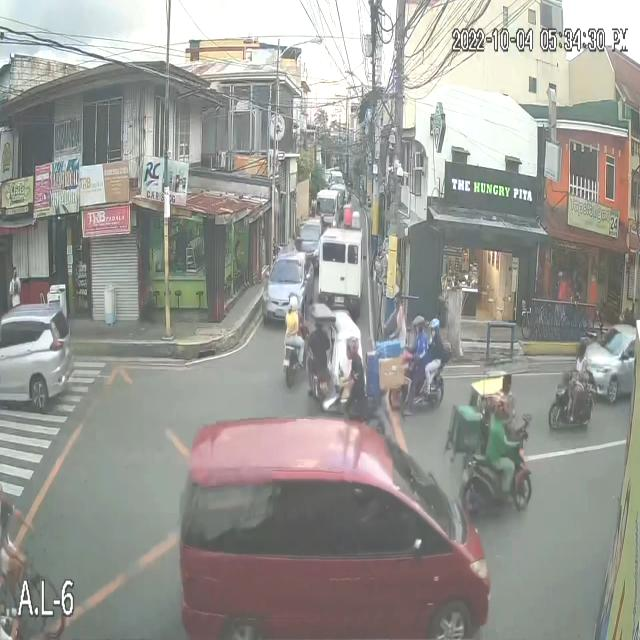Full-Faced: (342, 334, 363, 362), (572, 336, 591, 363), (411, 313, 426, 337), (288, 293, 300, 315)
Half-Faced: (425, 312, 442, 338)
